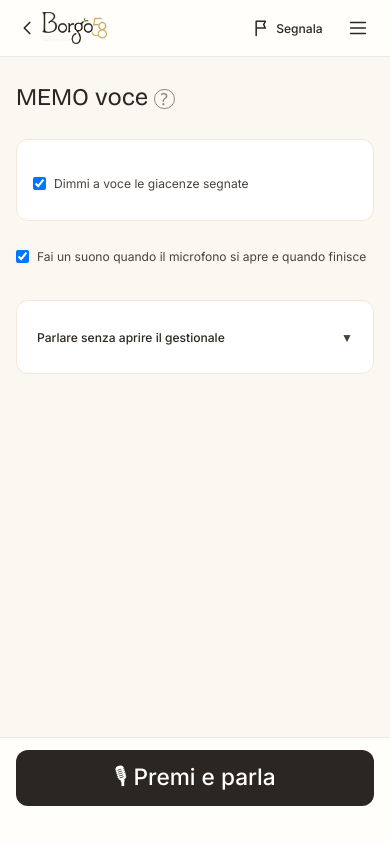
Test case: 🔴 a microfono acceso il menu non butta via quello che si è detto › «Lascia perdere e vai»: spegne SENZA mandare, e va dove si era toccato
Click the button "🎙 Premi e parla" at (195, 778), box [16,750,374,806]
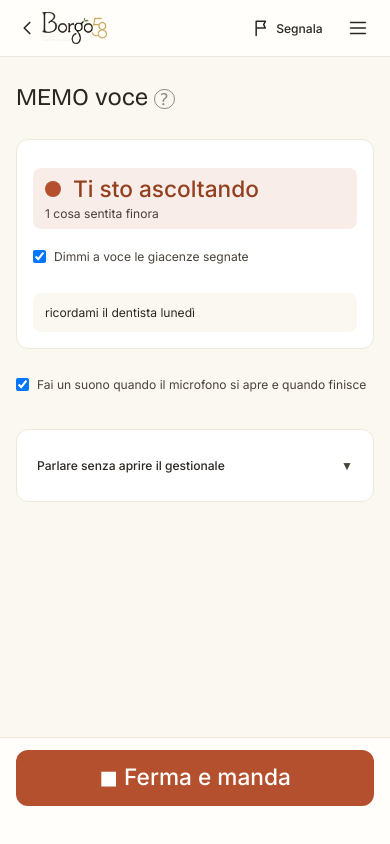
Click the button named "Apri menu" at (358, 28), box [342,12,374,44]
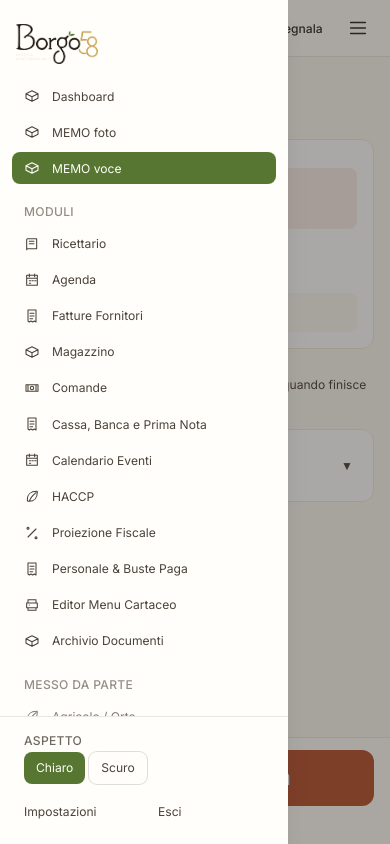
Click the link "Agenda" at (60, 280), box [24,272,96,288]
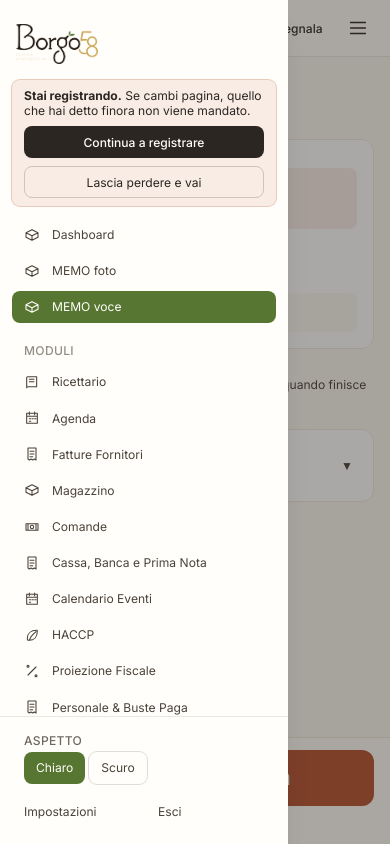
Click the button "Lascia perdere e vai" at (144, 182), box [24,166,264,198]
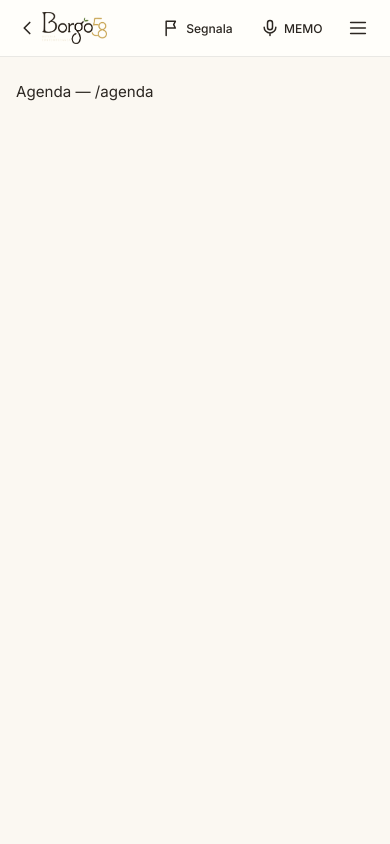
Expected: the text "Agenda — /agenda" is shown, [16,82,154,101]
